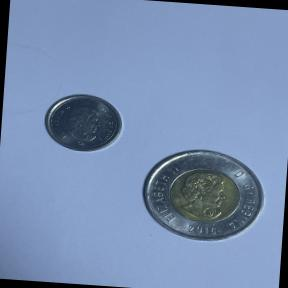Canada-10cent-B: (35, 84, 130, 159)
Canada-2Dollar-B: (130, 138, 278, 255)
